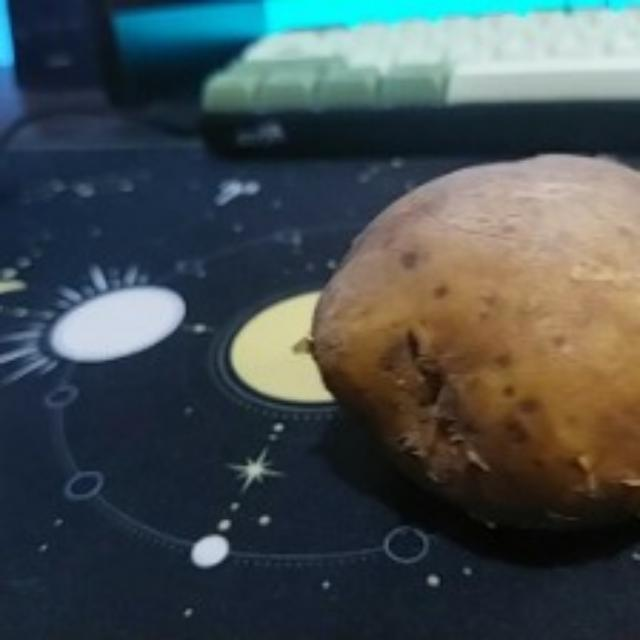Damaged potato: (304, 160, 640, 570)
